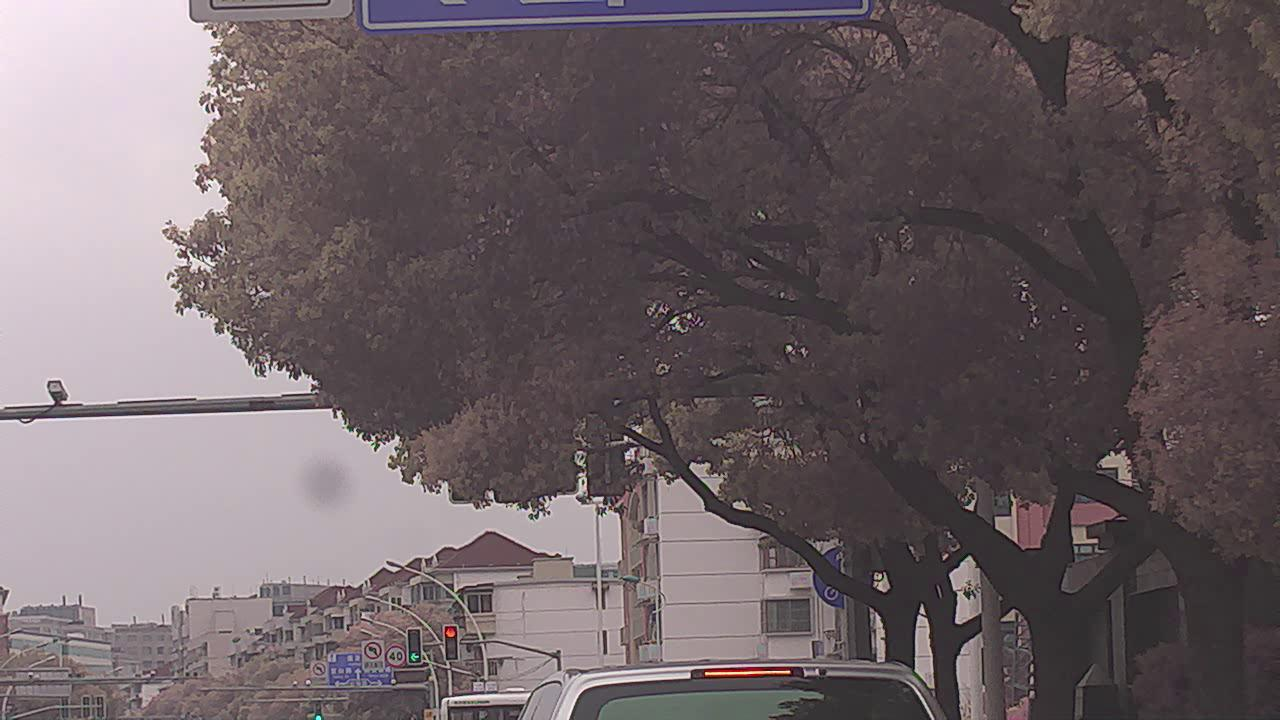traffic_light: (443, 624, 460, 663), (406, 627, 422, 662)
